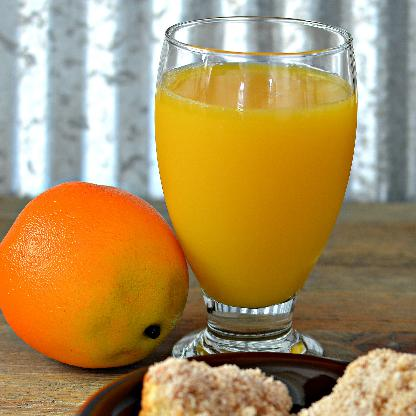orange juice: (154, 61, 356, 311)
